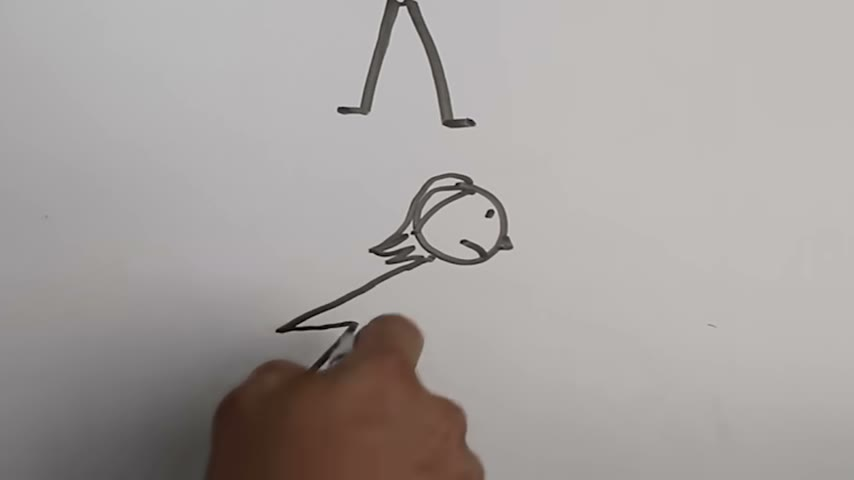barbell_plate_side: (434, 173, 517, 341), (333, 0, 391, 119)
